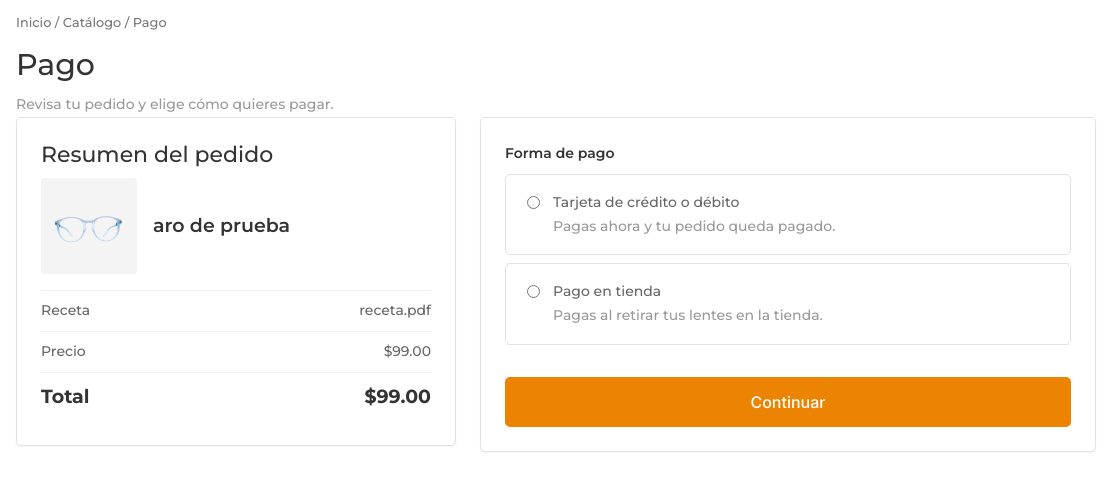
Test: PaymentPage: registro del pedido › registra el pedido pendiente con pago en tienda, sin pasarela ni pago (A1)
The image size is (1113, 488).
expect the button "Continuar" is shown: met, box [505,377,1071,427]
Click the radio button labelled "Pago en tienda Pagas al retirar tus lentes en la tienda." at (534,292), box [527,285,540,298]
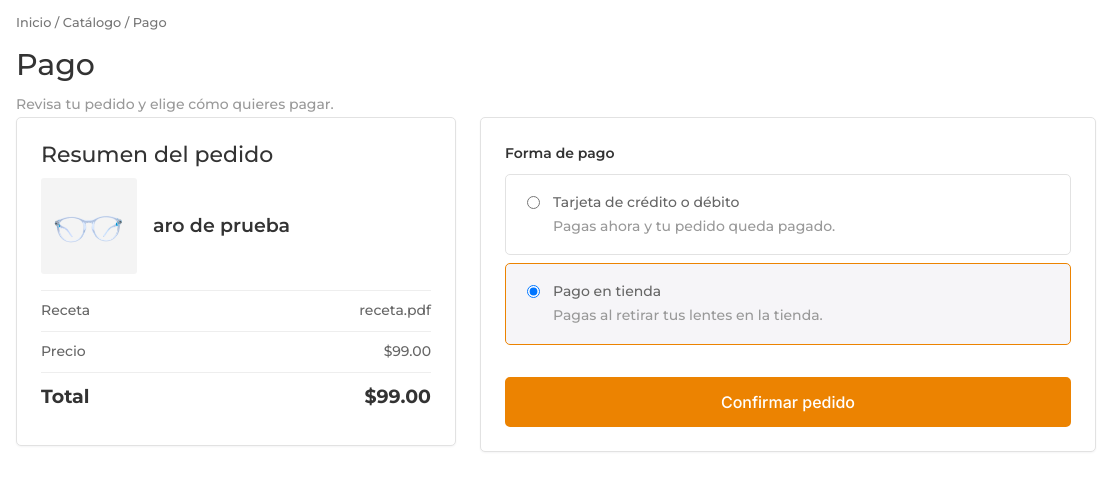
Click the button "Confirmar pedido" at (788,402), box [505,377,1071,427]
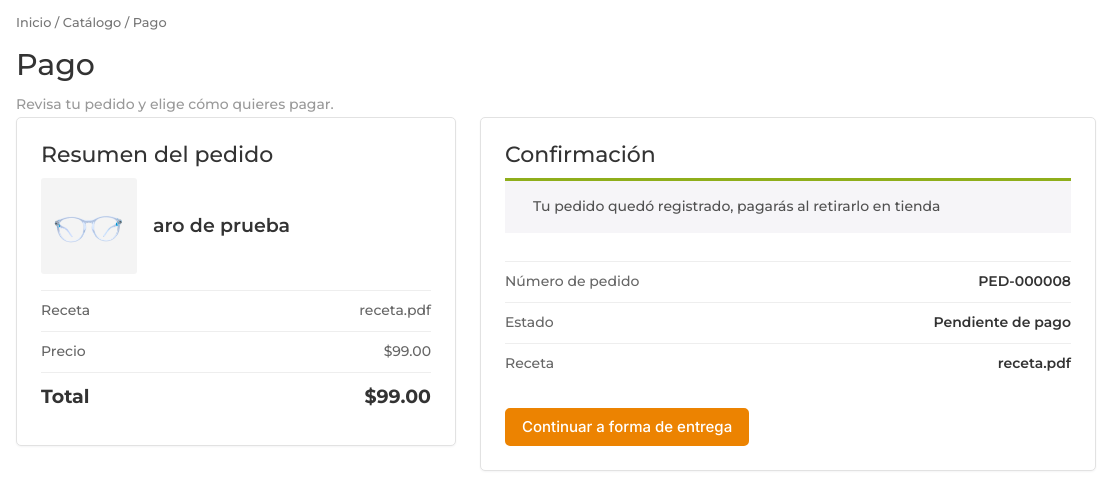
expect the text "Tu pedido quedó registrado, pagarás al retirarlo en tienda" is shown: met, box [505,178,1071,233]
expect the text "PED-000008" is shown: met, box [978,270,1071,294]
expect the text "Pendiente de pago" is shown: met, box [934,311,1071,335]
